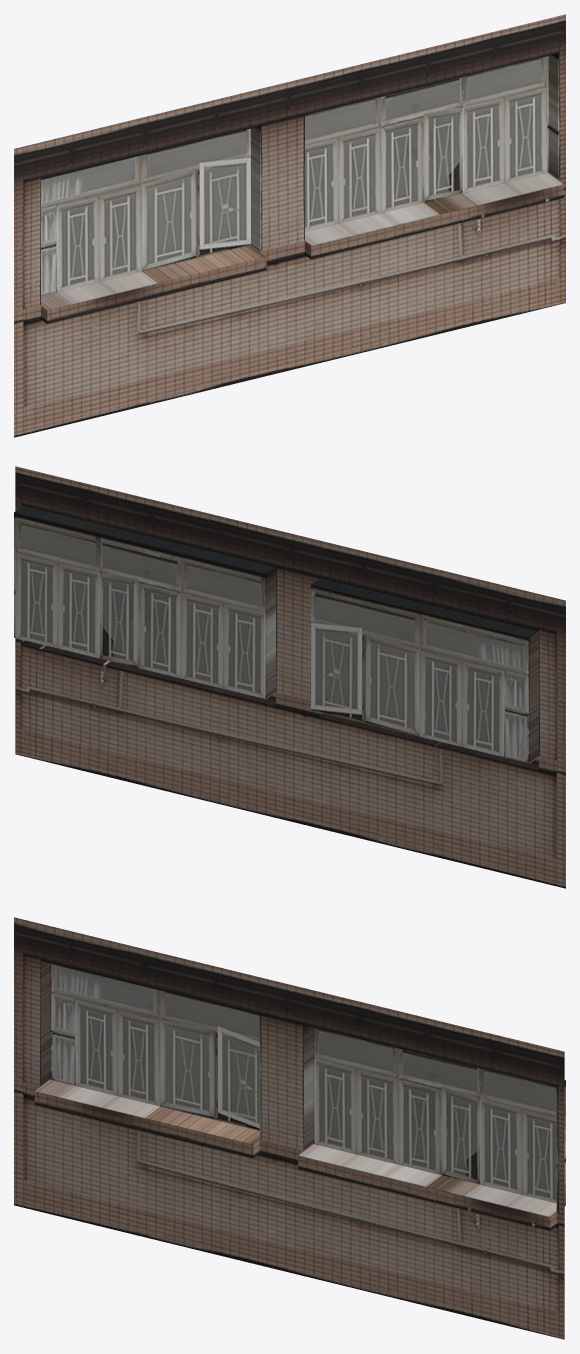
File: CT_Building_Piece_03.fbx
3 renders of one model, top to bottom at view 1: azimuth 30°, elevation 25°; view 2: azimuth 150°, elevation 25°; view 3: azimuth 330°, elevation 25°, orthographic.
Visible parts, largest first — view 1: CT_Building_Piece_03; view 2: CT_Building_Piece_03; view 3: CT_Building_Piece_03.
Boxes of the visible parts, x1,y1,x2,y2 form: CT_Building_Piece_03: [14, 14, 565, 437]; CT_Building_Piece_03: [14, 466, 565, 888]; CT_Building_Piece_03: [14, 917, 565, 1339].
Bounding box in the file's own units: 512 × 256 × 25.
